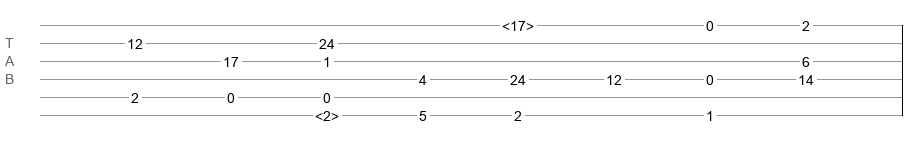0: (227, 90, 235, 100), (323, 90, 331, 100), (706, 72, 714, 82), (706, 18, 714, 28)
1: (323, 54, 331, 64), (706, 108, 714, 118)
12: (127, 36, 143, 46), (606, 72, 622, 82)
14: (798, 72, 814, 82)
17: (223, 54, 239, 64)
2: (131, 90, 139, 100), (514, 108, 522, 118), (802, 18, 810, 28)
24: (319, 36, 335, 46), (510, 72, 526, 82)
4: (419, 72, 427, 82)
5: (419, 108, 427, 118)
6: (802, 54, 810, 64)
harmonic: (502, 18, 534, 28), (315, 108, 339, 118)
